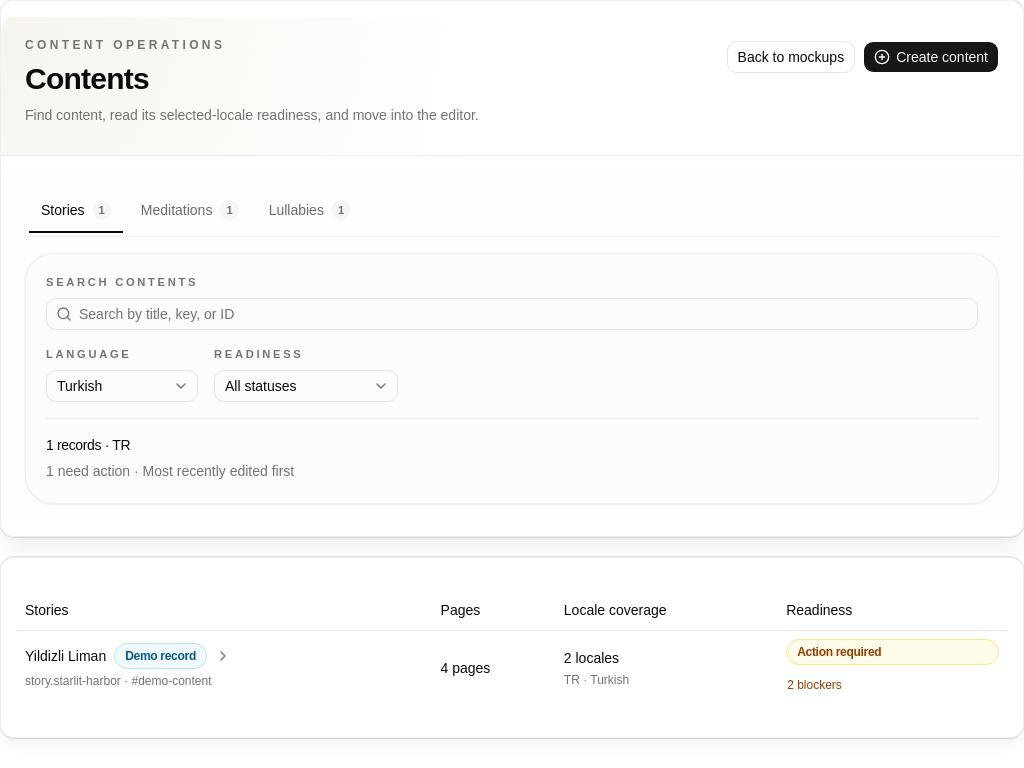
Variant A mockup routes › opens the story workspace when an editor selects a story row
This screenshot has width=1024, height=768.
Click the row "Yildizli Liman". click: click(66, 656)
box: [17,630,1007,704]
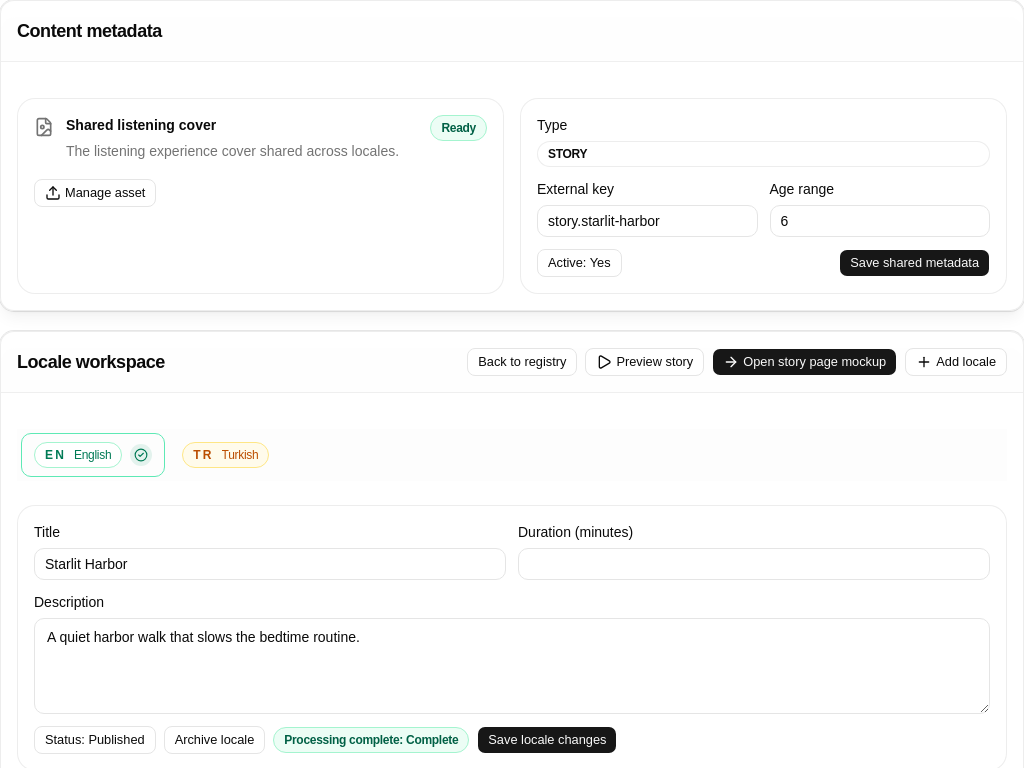
Result: the link "Back to registry" is shown at [467,348,578,376]
